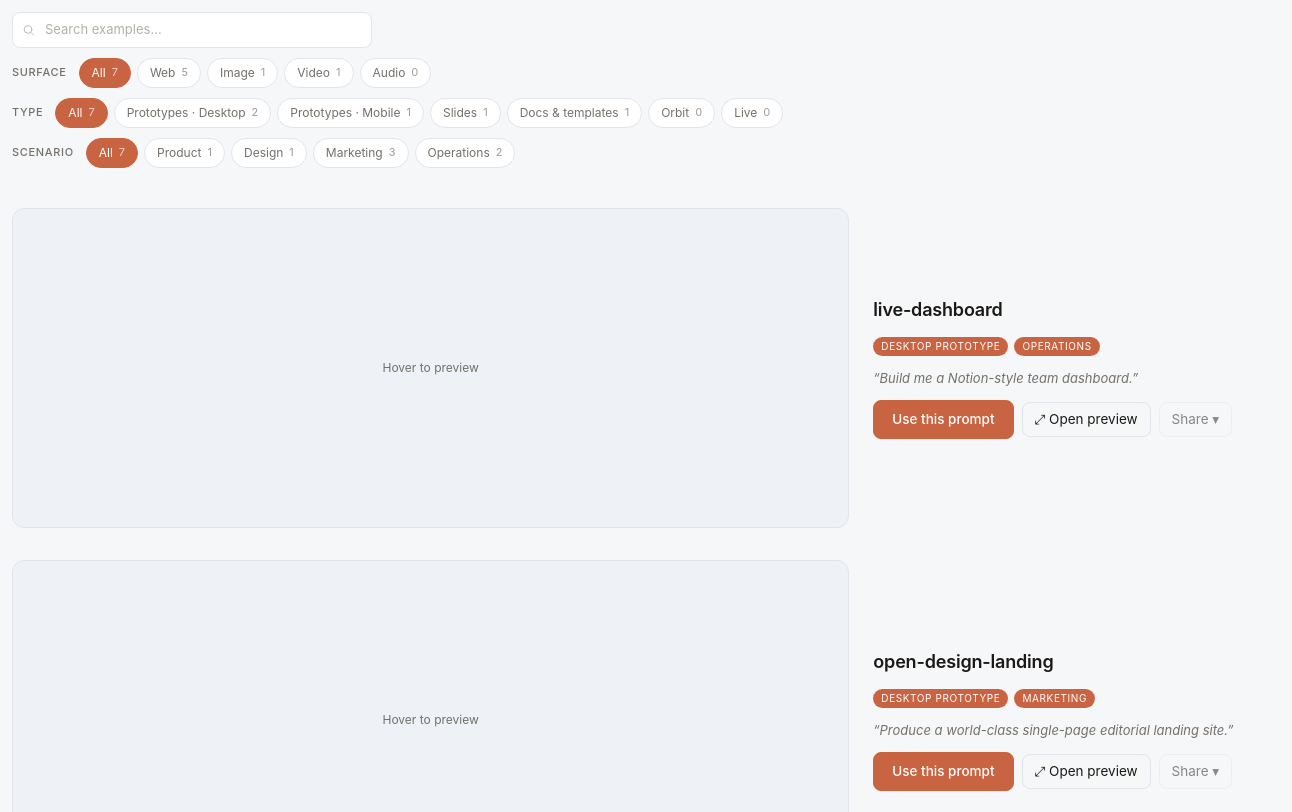
Test: ExamplesTab › filters examples by free-text search and shows an empty match state
Type "notion" into the search field named "Search examples by name" at x=192, y=30, box [12,12,372,48]
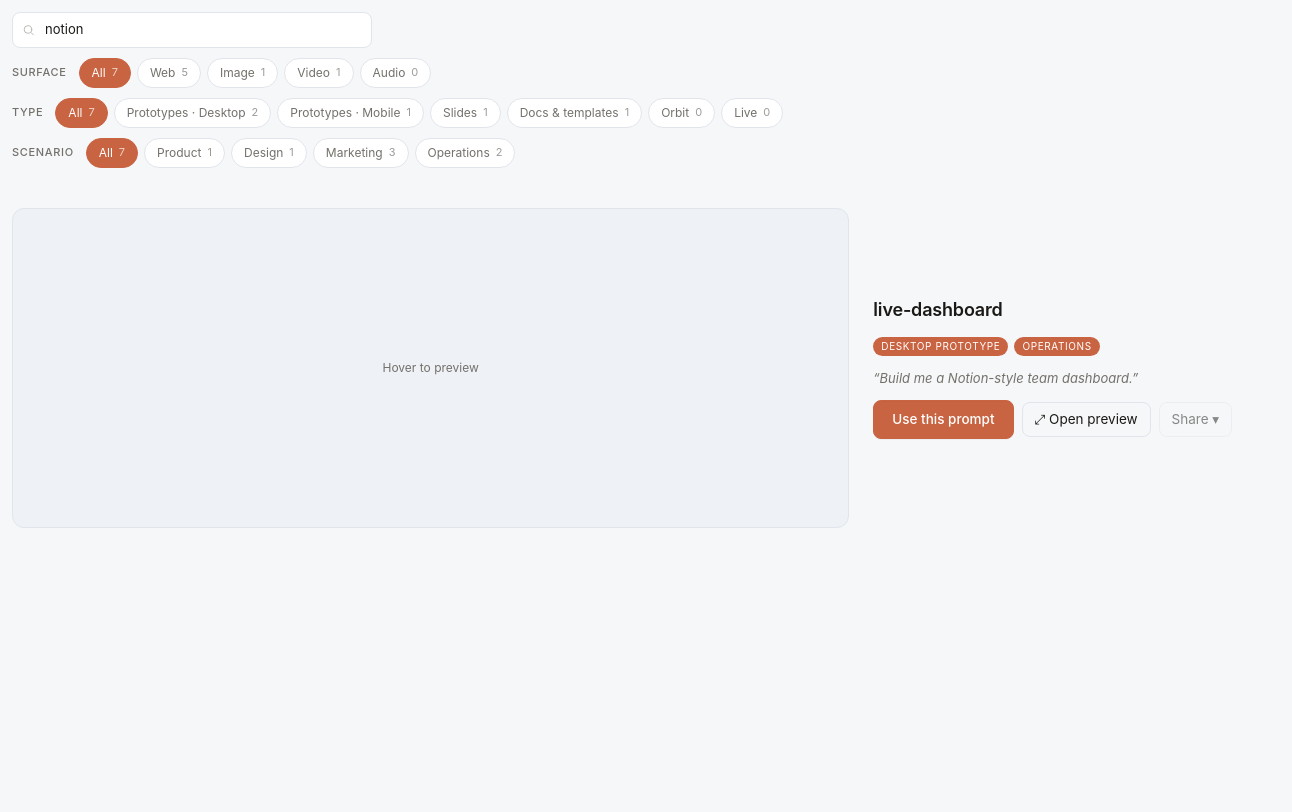
Expected: the element with test id "example-card-live-dashboard" is shown, [12,208,1291,528]
Replace the text in the search field named "Search examples by name" with "no matching example" at x=192, y=30, box [12,12,372,48]
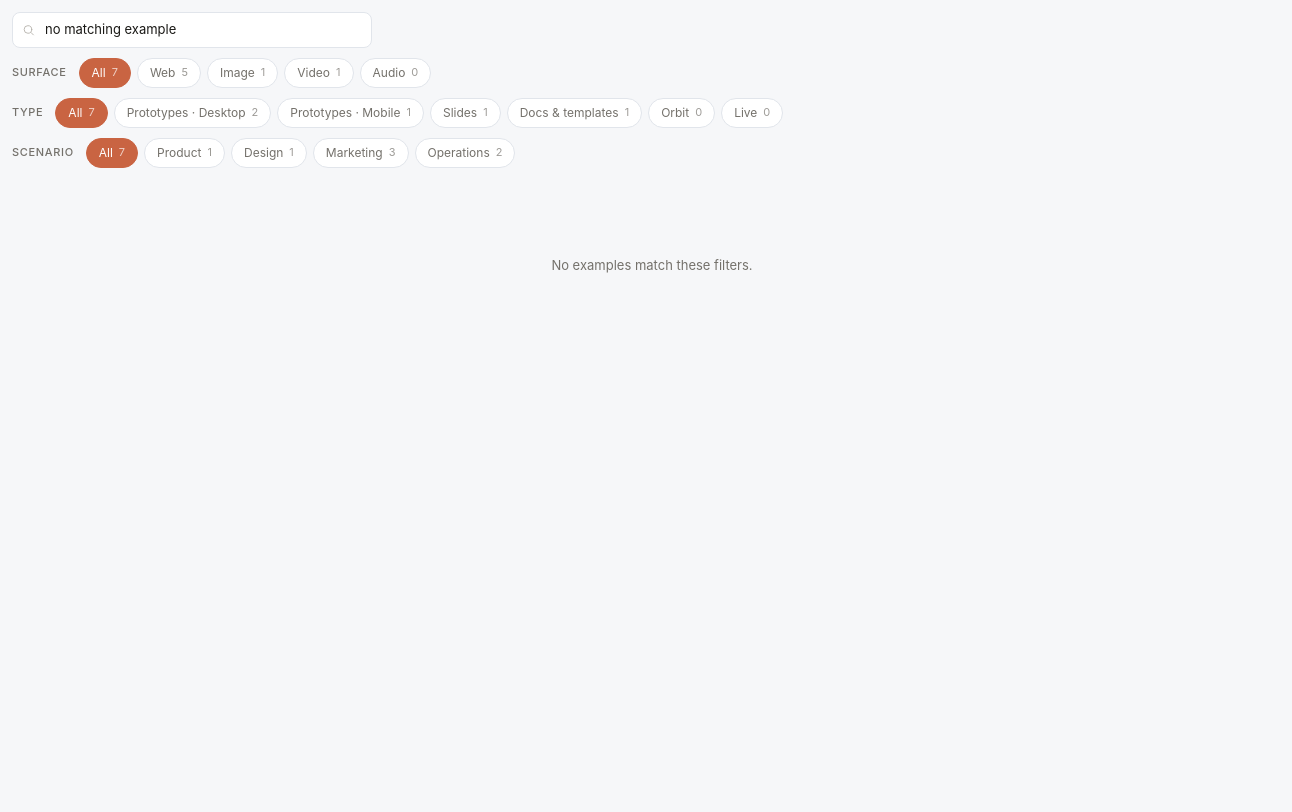
Expected: the text "No examples match these filters." is shown, [551,256,753,272]
